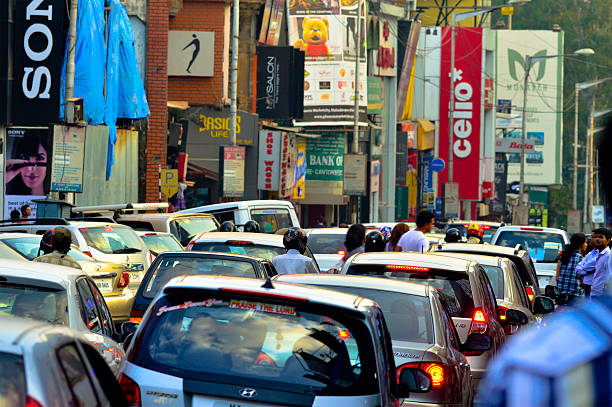car: (128, 282, 383, 407), (282, 275, 463, 407), (346, 255, 491, 357), (1, 222, 133, 316), (2, 258, 109, 340), (133, 253, 261, 316), (468, 255, 535, 341), (494, 226, 567, 287)
